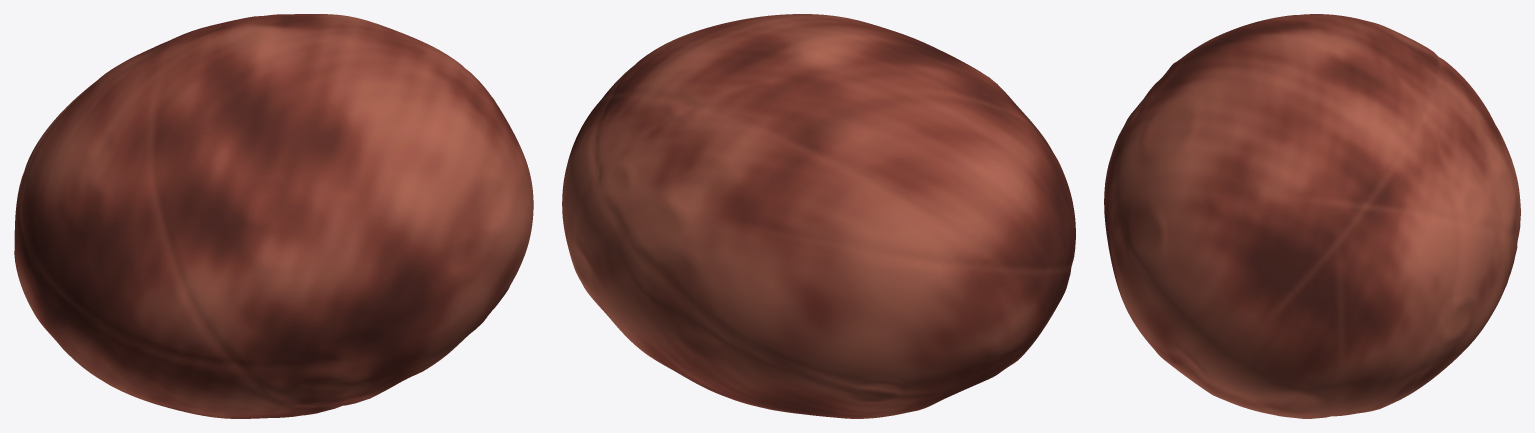
The model's file is xiangliu.glb.
The picture shows the model from 3 angles, left to right: view 1: azimuth 30°, elevation 25°; view 2: azimuth 150°, elevation 25°; view 3: azimuth 270°, elevation 25°; orthographic projection. The views are drawn at different scales.
Parts seen in each view (by area): view 1: xiangliu_body; view 2: xiangliu_body; view 3: xiangliu_body.
Part boxes in pixels (bbox=[...]): xiangliu_body: bbox=[14, 14, 533, 418]; xiangliu_body: bbox=[562, 14, 1075, 418]; xiangliu_body: bbox=[1104, 14, 1520, 418].
Bounding box in the file's own units: 2.35 × 1.72 × 1.91.
1 material, 1 textured.
